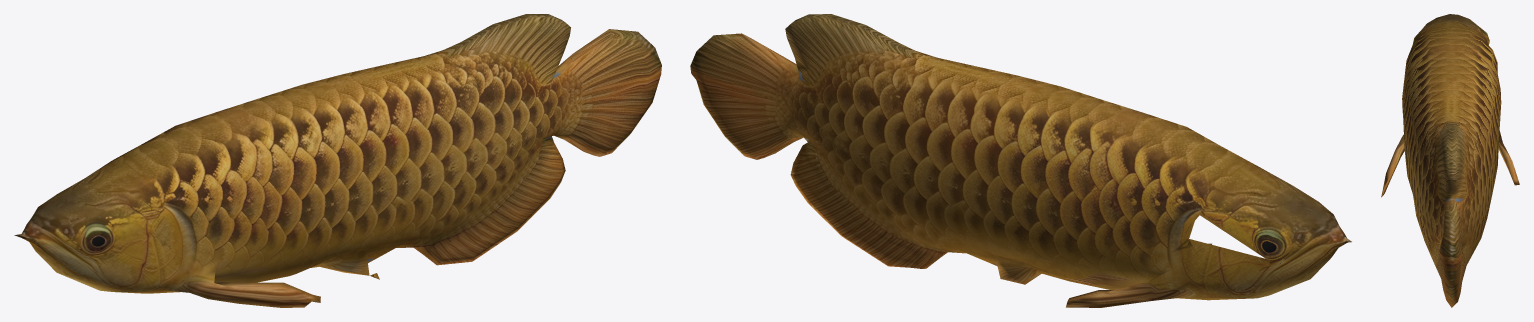
The model's file is arowana.glb.
3 renders of one model, left to right at view 1: azimuth 30°, elevation 25°; view 2: azimuth 150°, elevation 25°; view 3: azimuth 270°, elevation 25°, orthographic. The views are drawn at different scales.
Parts seen in each view (by area): view 1: tripo_node_b0cd628c; view 2: tripo_node_b0cd628c; view 3: tripo_node_b0cd628c.
Boxes of the visible parts, left/top/right/bottom form: tripo_node_b0cd628c: left=14, top=14, right=661, bottom=307; tripo_node_b0cd628c: left=690, top=14, right=1351, bottom=307; tripo_node_b0cd628c: left=1381, top=14, right=1519, bottom=307.
Bounding box in the file's own units: 94.86 × 32.43 × 21.88.
Materials: 1 (1 with a texture image).
